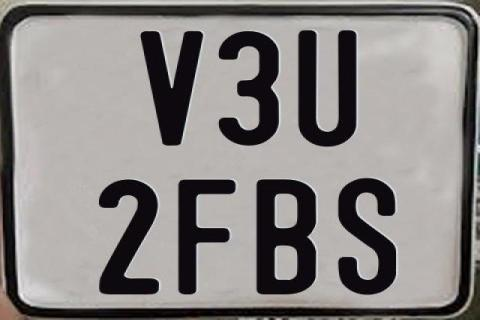0: (215, 30, 280, 146), (99, 177, 160, 293)
B: (255, 177, 317, 295)
F: (176, 178, 235, 294)
S: (335, 178, 393, 298)
U: (298, 30, 359, 150)
V: (140, 29, 208, 149)
